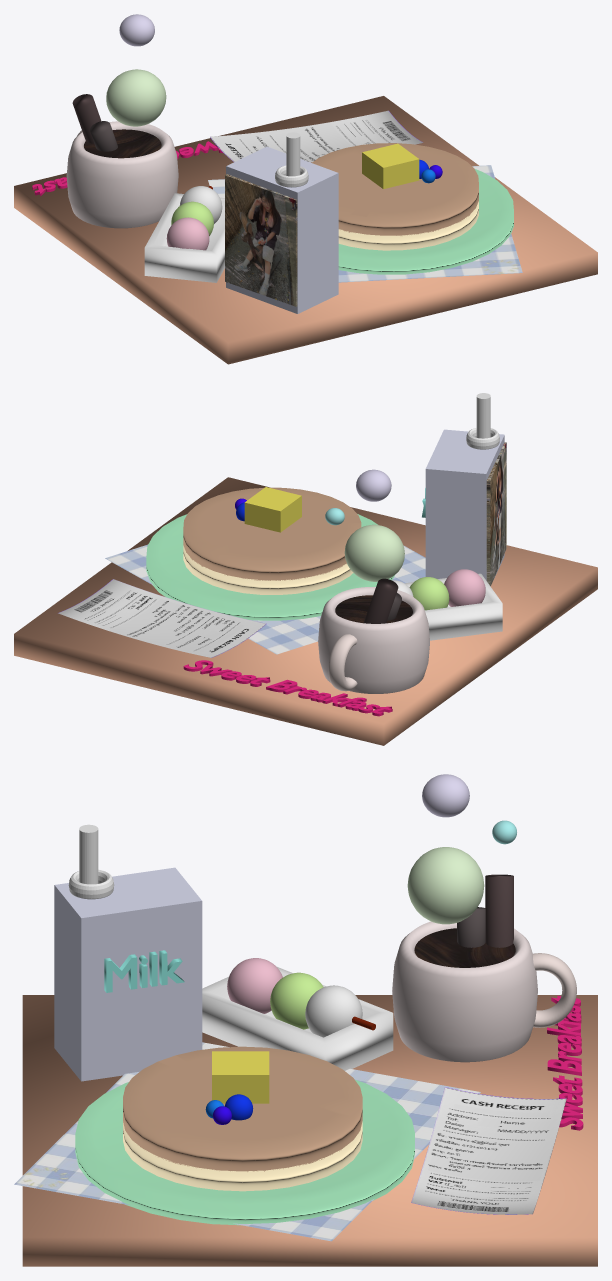
The model's file is Breakfastfinal2nosyrup.glb.
The picture shows the model from 3 angles, top to bottom: view 1: azimuth 30°, elevation 25°; view 2: azimuth 150°, elevation 25°; view 3: azimuth 270°, elevation 25°; orthographic projection. The views are drawn at different scales.
Parts seen in each view (by area): view 1: Plane, Cylinder.004, Torus, Cube, Plane.002, Cylinder, SurfPatch, Cube.002, Sphere, Plane.001, Cylinder.003, Cube.001 (+10 smaller); view 2: Plane, Cylinder.004, Cube, SurfPatch, Torus, Cylinder, Plane.001, Sphere, Cube.002, Cylinder.003, Plane.002, Text.002 (+9 smaller); view 3: Plane, Cube, Cylinder.004, Cylinder, SurfPatch, Torus, Plane.001, Cube.002, Cylinder.003, Sphere, Text.002, Cube.001 (+11 smaller).
Part boxes in pixels (x1,y1,x2,y2): Plane: (14, 96, 597, 364); Cylinder.004: (312, 143, 478, 235); Torus: (66, 121, 178, 228); Cube: (226, 146, 338, 313); Plane.002: (225, 174, 297, 306); Cylinder: (338, 169, 513, 274); SurfPatch: (210, 110, 423, 162); Cube.002: (144, 193, 224, 282); Sphere: (106, 69, 166, 126); Plane.001: (208, 165, 522, 282); Cylinder.003: (338, 201, 478, 250); Cube.001: (362, 143, 419, 188); Plane: (14, 477, 597, 745); Cylinder.004: (183, 487, 361, 580); Cube: (425, 429, 504, 580); SurfPatch: (58, 579, 266, 657); Torus: (318, 587, 429, 693); Cylinder: (146, 514, 395, 620); Plane.001: (105, 544, 425, 654); Sphere: (344, 524, 404, 581); Cube.002: (405, 573, 502, 640); Cylinder.003: (183, 545, 353, 594); Plane.002: (486, 442, 506, 586); Text.002: (183, 660, 392, 716); Plane: (22, 995, 597, 1266); Cube: (54, 867, 202, 1081); Cylinder.004: (123, 1046, 362, 1171); Cylinder: (75, 1079, 414, 1225); SurfPatch: (411, 1087, 566, 1214); Torus: (392, 921, 537, 1062); Plane.001: (14, 1042, 480, 1241); Cube.002: (202, 966, 393, 1070); Cylinder.003: (123, 1121, 362, 1191); Sphere: (407, 847, 484, 924); Text.002: (547, 995, 583, 1130); Cube.001: (212, 1051, 269, 1103).
Size of the model in its own units: 12.24 by 6.7 by 12.18.
Materials: 25 (4 with a texture image).
